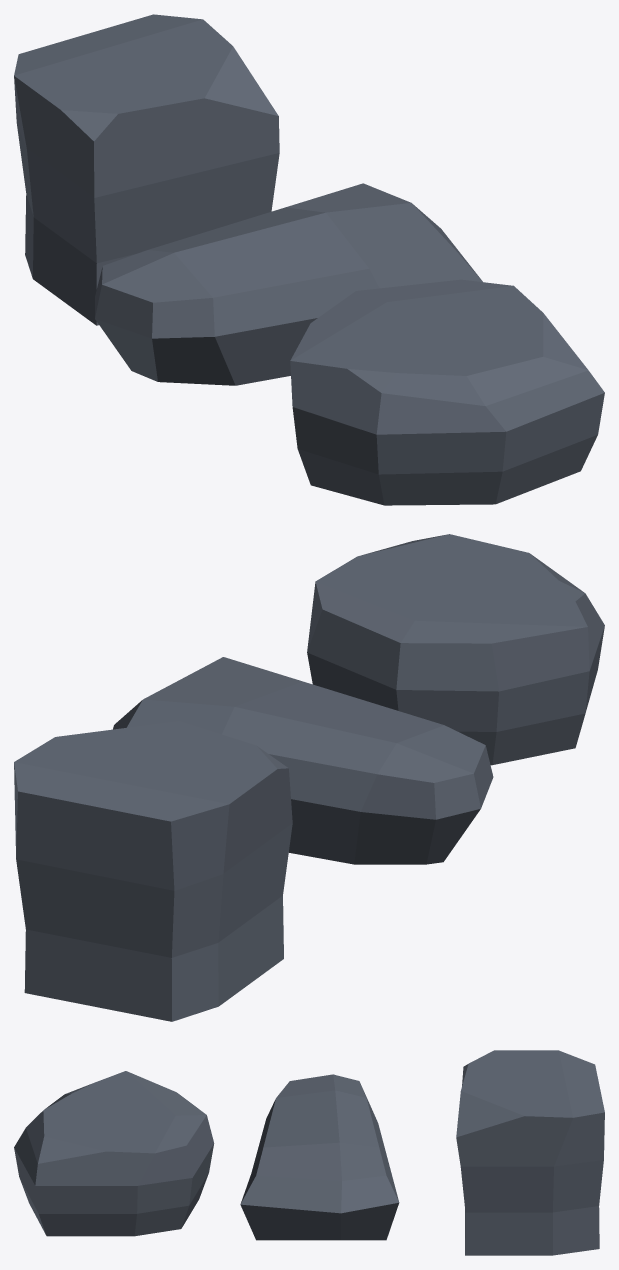
File: rocks.fbx
The picture shows the model from 3 angles, top to bottom: view 1: azimuth 30°, elevation 25°; view 2: azimuth 150°, elevation 25°; view 3: azimuth 270°, elevation 25°; orthographic projection. The views are drawn at different scales.
Visible parts, largest first — view 1: pCube206, pCube2, pCube1; view 2: pCube2, pCube206, pCube1; view 3: pCube2, pCube206, pCube1.
Part boxes in pixels (x1,y1,x2,y2): pCube206: (290, 279, 604, 505); pCube2: (14, 14, 279, 325); pCube1: (95, 183, 482, 385); pCube2: (14, 721, 292, 1021); pCube206: (307, 534, 604, 765); pCube1: (113, 657, 493, 864); pCube2: (456, 1050, 604, 1255); pCube206: (14, 1071, 214, 1236); pCube1: (240, 1074, 399, 1240).
Bounding box in the file's own units: 15.64 × 8.66 × 32.86.
